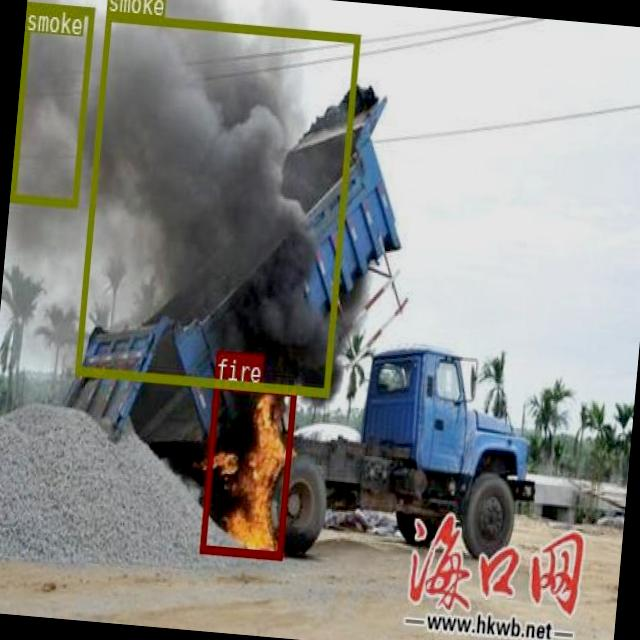fire: (198, 380, 296, 557)
smoke: (74, 11, 360, 396), (9, 1, 92, 206)
